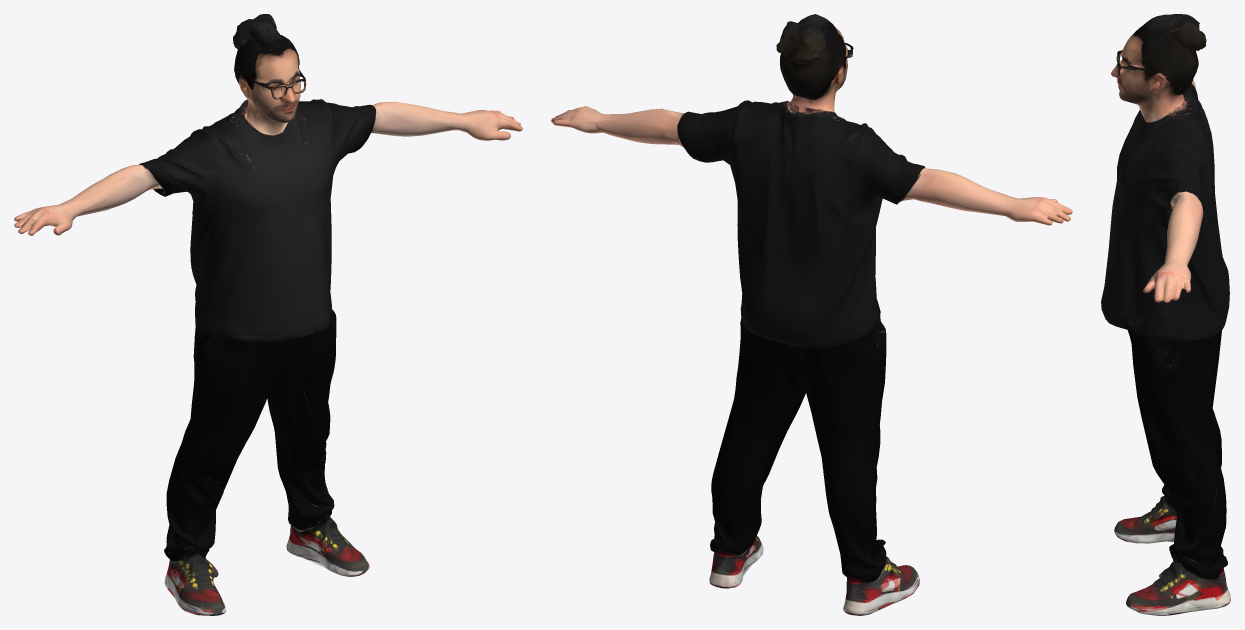
File: berkay.glb
3 views of the same model, side by side, from view 1: azimuth 30°, elevation 25°; view 2: azimuth 150°, elevation 25°; view 3: azimuth 270°, elevation 25° (orthographic).
Parts seen in each view (by area): view 1: Mesh_0; view 2: Mesh_0; view 3: Mesh_0.
Boxes of the visible parts, x1,y1,x2,y2 form: Mesh_0: [14, 14, 522, 615]; Mesh_0: [551, 14, 1072, 615]; Mesh_0: [1101, 14, 1230, 615].
Size of the model in its own units: 1.81 by 1.91 by 0.4037.
Materials: 1 (1 with a texture image).
